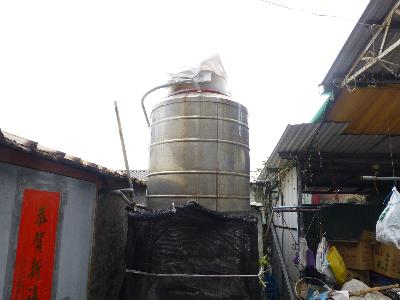box: (328, 236, 372, 270), (373, 241, 400, 278)
plastic_bag: (378, 192, 400, 241)
water_tower: (146, 87, 250, 217)
